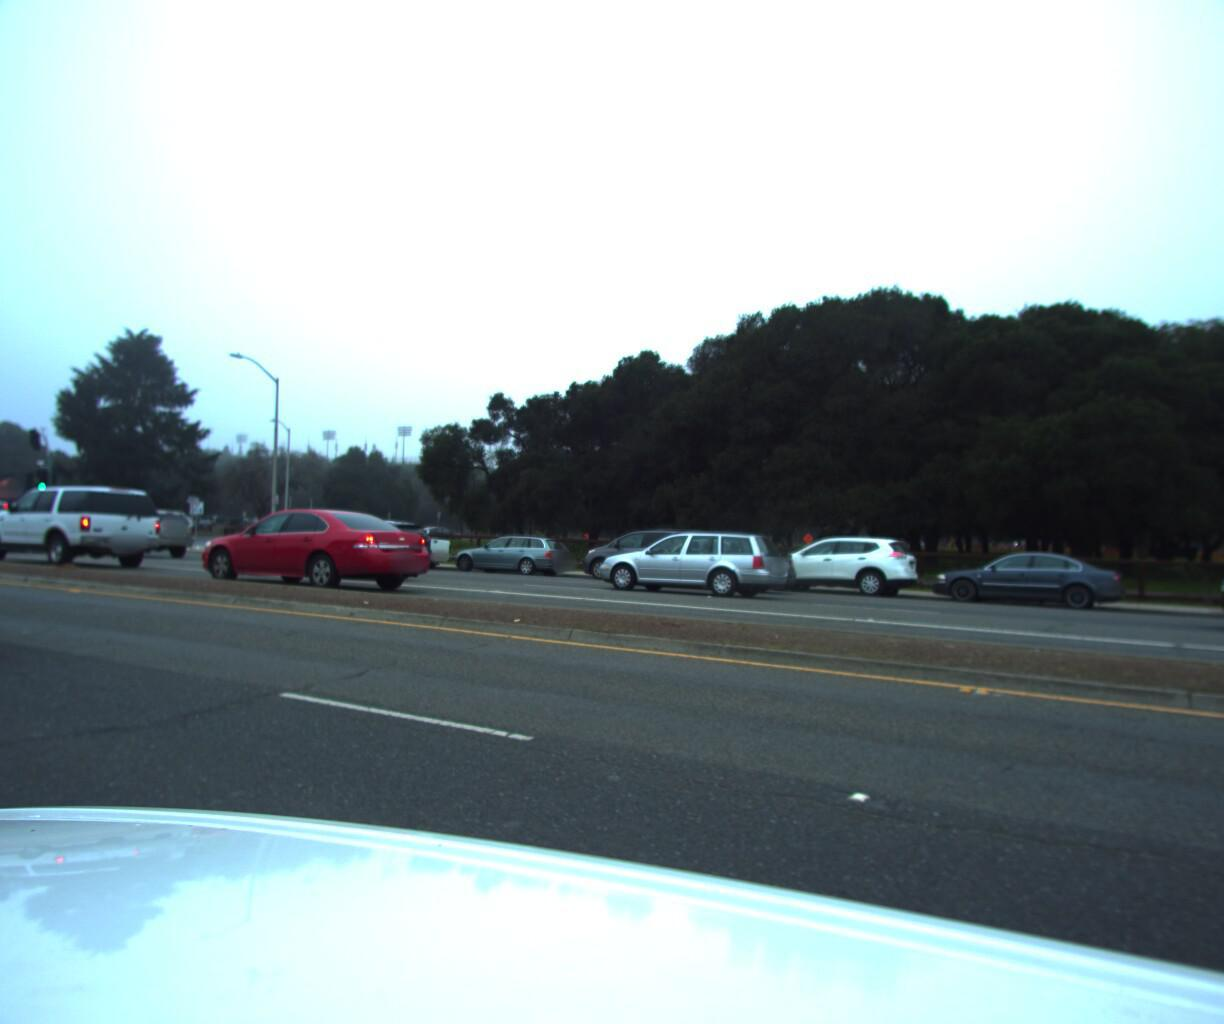car: (178, 500, 449, 591), (588, 521, 793, 598), (921, 539, 1128, 612), (0, 476, 166, 565), (751, 525, 926, 600), (571, 520, 743, 590), (303, 511, 444, 567), (323, 513, 454, 569), (444, 524, 579, 577), (81, 504, 201, 556), (218, 518, 322, 563), (0, 468, 17, 718), (0, 493, 44, 547), (1208, 529, 1224, 657)
